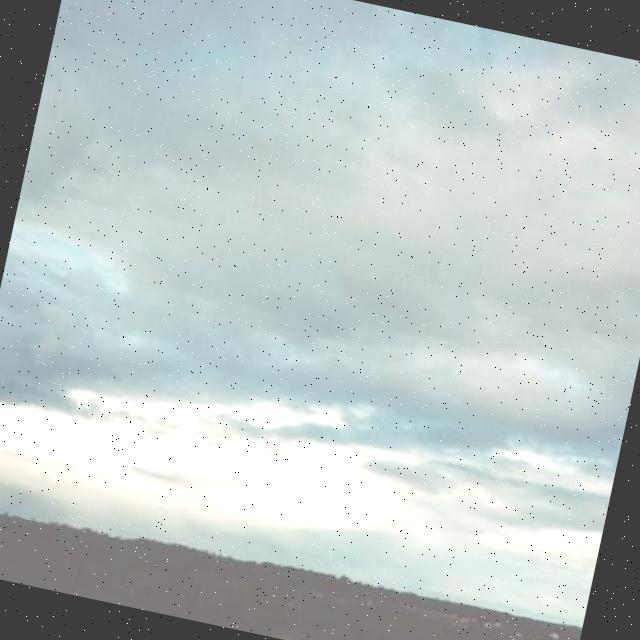Ns: (1, 75, 640, 557)
